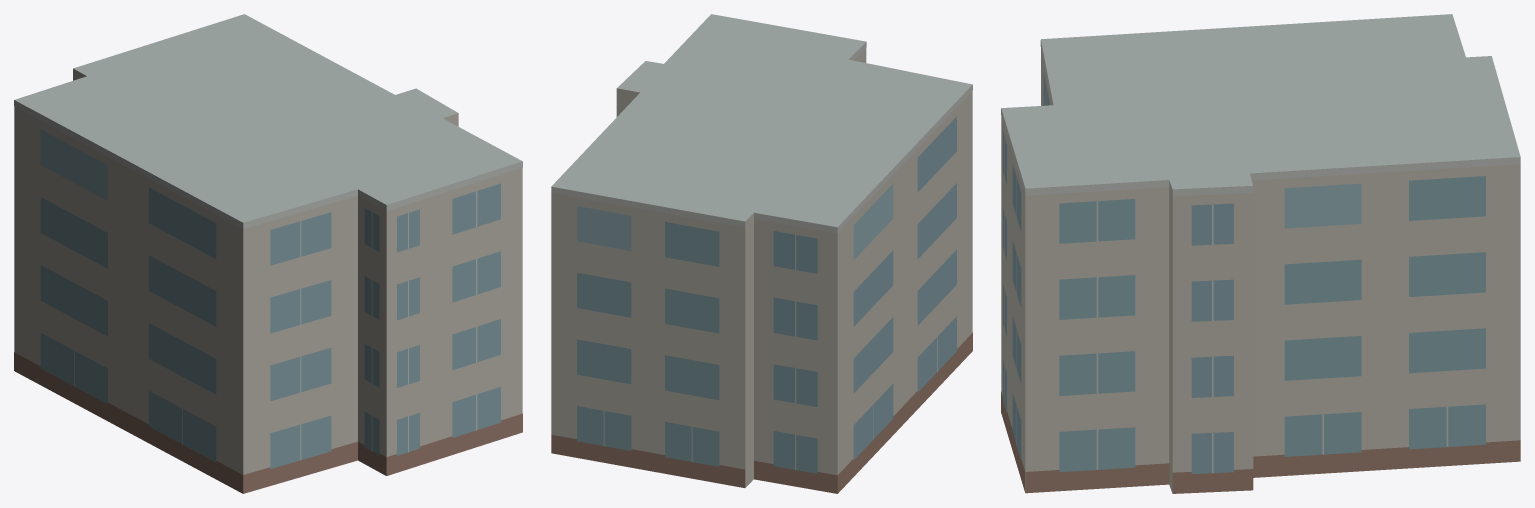
File: survey-upis-32575825.glb
3 views of the same model, side by side, from view 1: azimuth 30°, elevation 25°; view 2: azimuth 150°, elevation 25°; view 3: azimuth 270°, elevation 25° (orthographic). The views are drawn at different scales.
Visible parts, largest first — view 1: survey-upis-32575825.tmp; view 2: survey-upis-32575825.tmp; view 3: survey-upis-32575825.tmp.
Part boxes in pixels (left/top/right/bottom): survey-upis-32575825.tmp: left=14, top=14, right=522, bottom=493; survey-upis-32575825.tmp: left=551, top=14, right=972, bottom=493; survey-upis-32575825.tmp: left=1001, top=14, right=1520, bottom=493.
Size of the model in its own units: 12.97 by 10.5 by 16.24.
